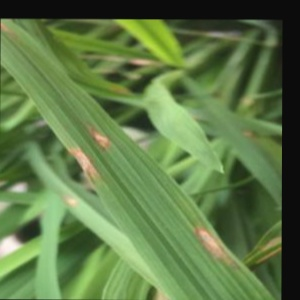Brown_Spot: (178, 216, 264, 271), (61, 143, 106, 185), (81, 113, 132, 150)
